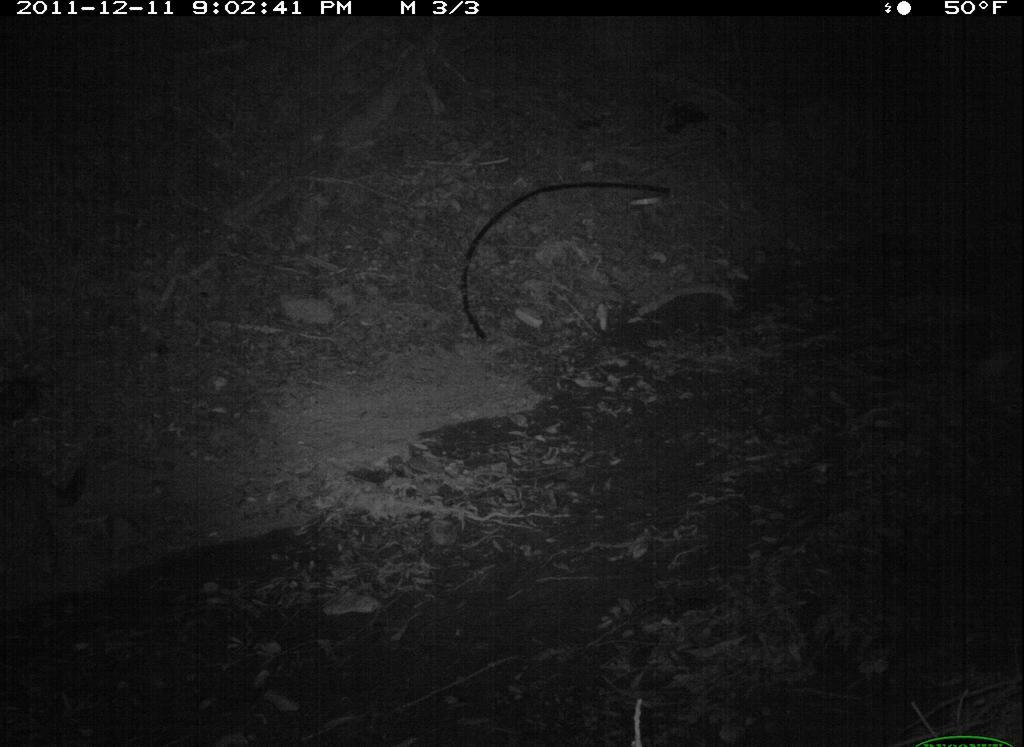cat: (4, 452, 99, 603)
